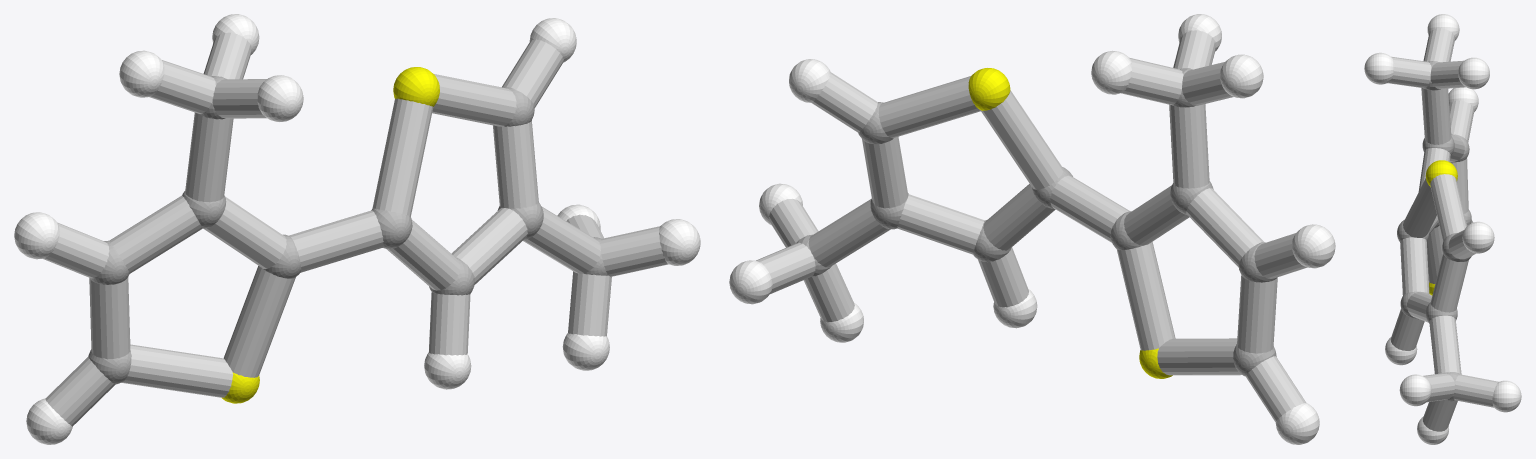
The model's file is Methylthiophene_Phi_30_Theta_350_Methylthiophene.glb.
The picture shows the model from 3 angles, left to right: view 1: azimuth 30°, elevation 25°; view 2: azimuth 150°, elevation 25°; view 3: azimuth 270°, elevation 25°; orthographic projection. The views are drawn at different scales.
Visible parts, largest first — view 1: grp7965, grp3621, grp1, grp7241; view 2: grp7965, grp3621, grp1, grp7241; view 3: grp7965, grp3621, grp1, grp7241.
Boxes of the visible parts, <box> form: grp7965: <box>43,32,668,426</box>; grp3621: <box>14,14,700,444</box>; grp1: <box>88,76,607,384</box>; grp7241: <box>221,67,439,403</box>; grp7965: <box>756,30,1307,422</box>; grp3621: <box>729,14,1335,444</box>; grp1: <box>796,68,1276,376</box>; grp7241: <box>968,68,1172,378</box>; grp7965: <box>1387,28,1498,431</box>; grp3621: <box>1364,14,1521,444</box>; grp1: <box>1397,61,1471,401</box>; grp7241: <box>1425,160,1457,295</box>.
Size of the model in its own units: 9.48 by 5.84 by 2.94.
